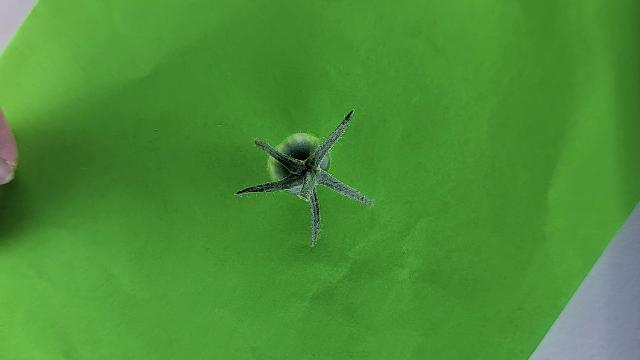Fruit Maturation: (270, 132, 328, 182)
